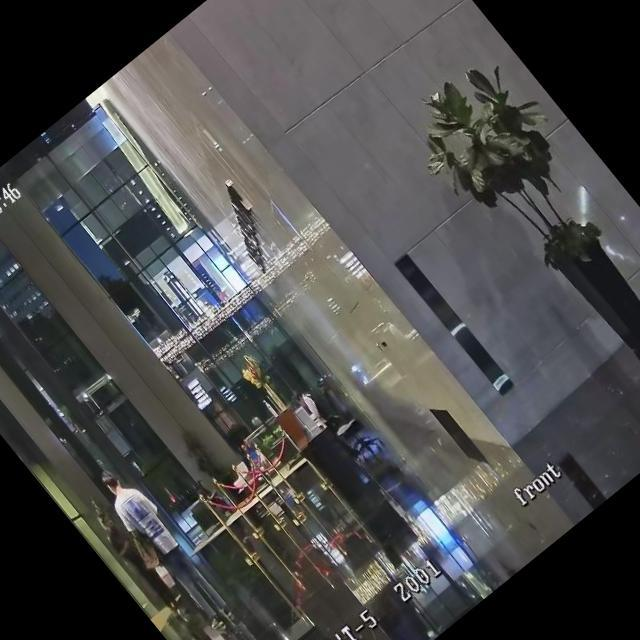person: (89, 458, 243, 636), (86, 503, 189, 623), (291, 381, 366, 466), (196, 473, 238, 521), (239, 439, 264, 467)
